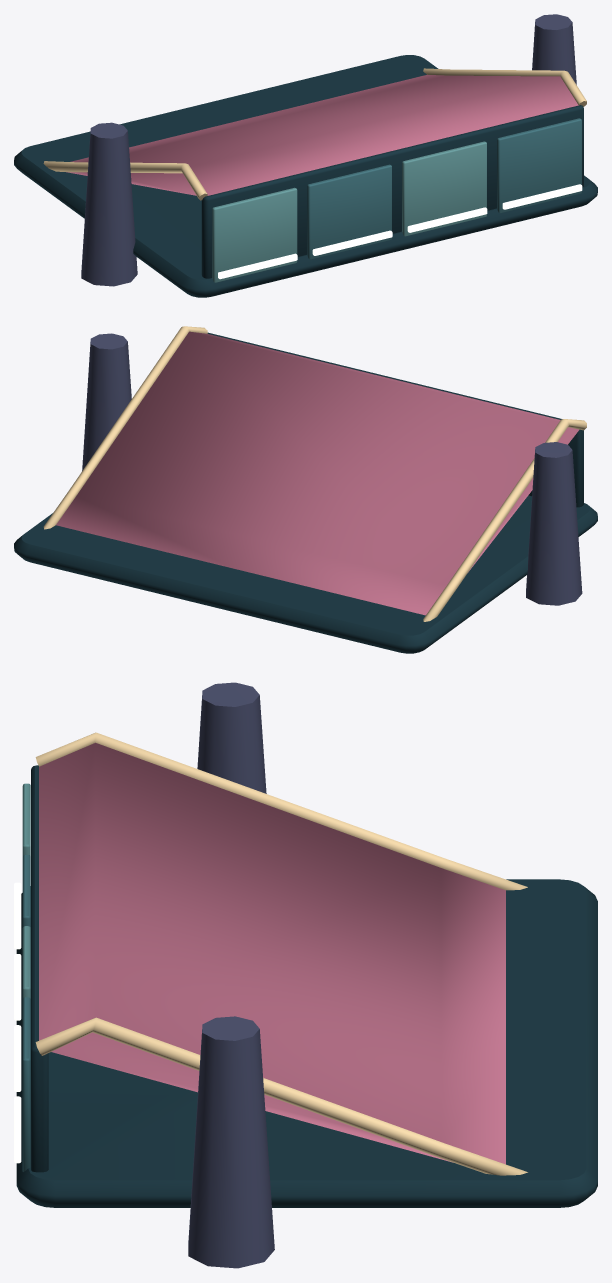
The model's file is japan_market_3.glb.
The picture shows the model from 3 angles, top to bottom: view 1: azimuth 30°, elevation 25°; view 2: azimuth 150°, elevation 25°; view 3: azimuth 270°, elevation 25°; orthographic projection. The views are drawn at different scales.
Visible parts, largest first — view 1: JapanMarket3; view 2: JapanMarket3; view 3: JapanMarket3.
Part boxes in pixels (left/top/right/bottom): JapanMarket3: left=14, top=14, right=597, bottom=297; JapanMarket3: left=14, top=326, right=597, bottom=653; JapanMarket3: left=14, top=682, right=597, bottom=1268.
Size of the model in its own units: 2.73 by 0.76 by 1.82.
